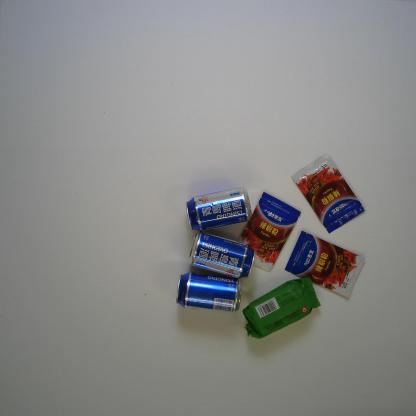Alcohol: (188, 231, 256, 280), (185, 186, 253, 232), (174, 270, 244, 314)
Dessert: (242, 276, 323, 340)
Seasoner: (290, 152, 367, 235), (284, 230, 366, 300), (237, 191, 301, 273)
